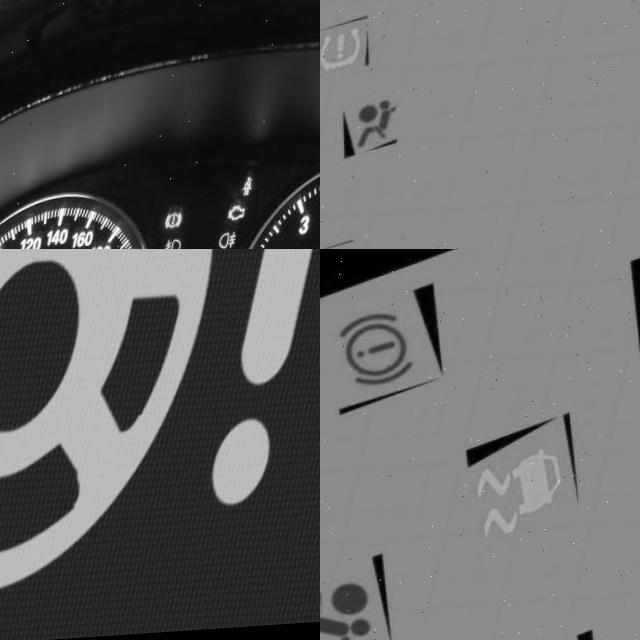Electronic Power Steering: (0, 249, 320, 607)
